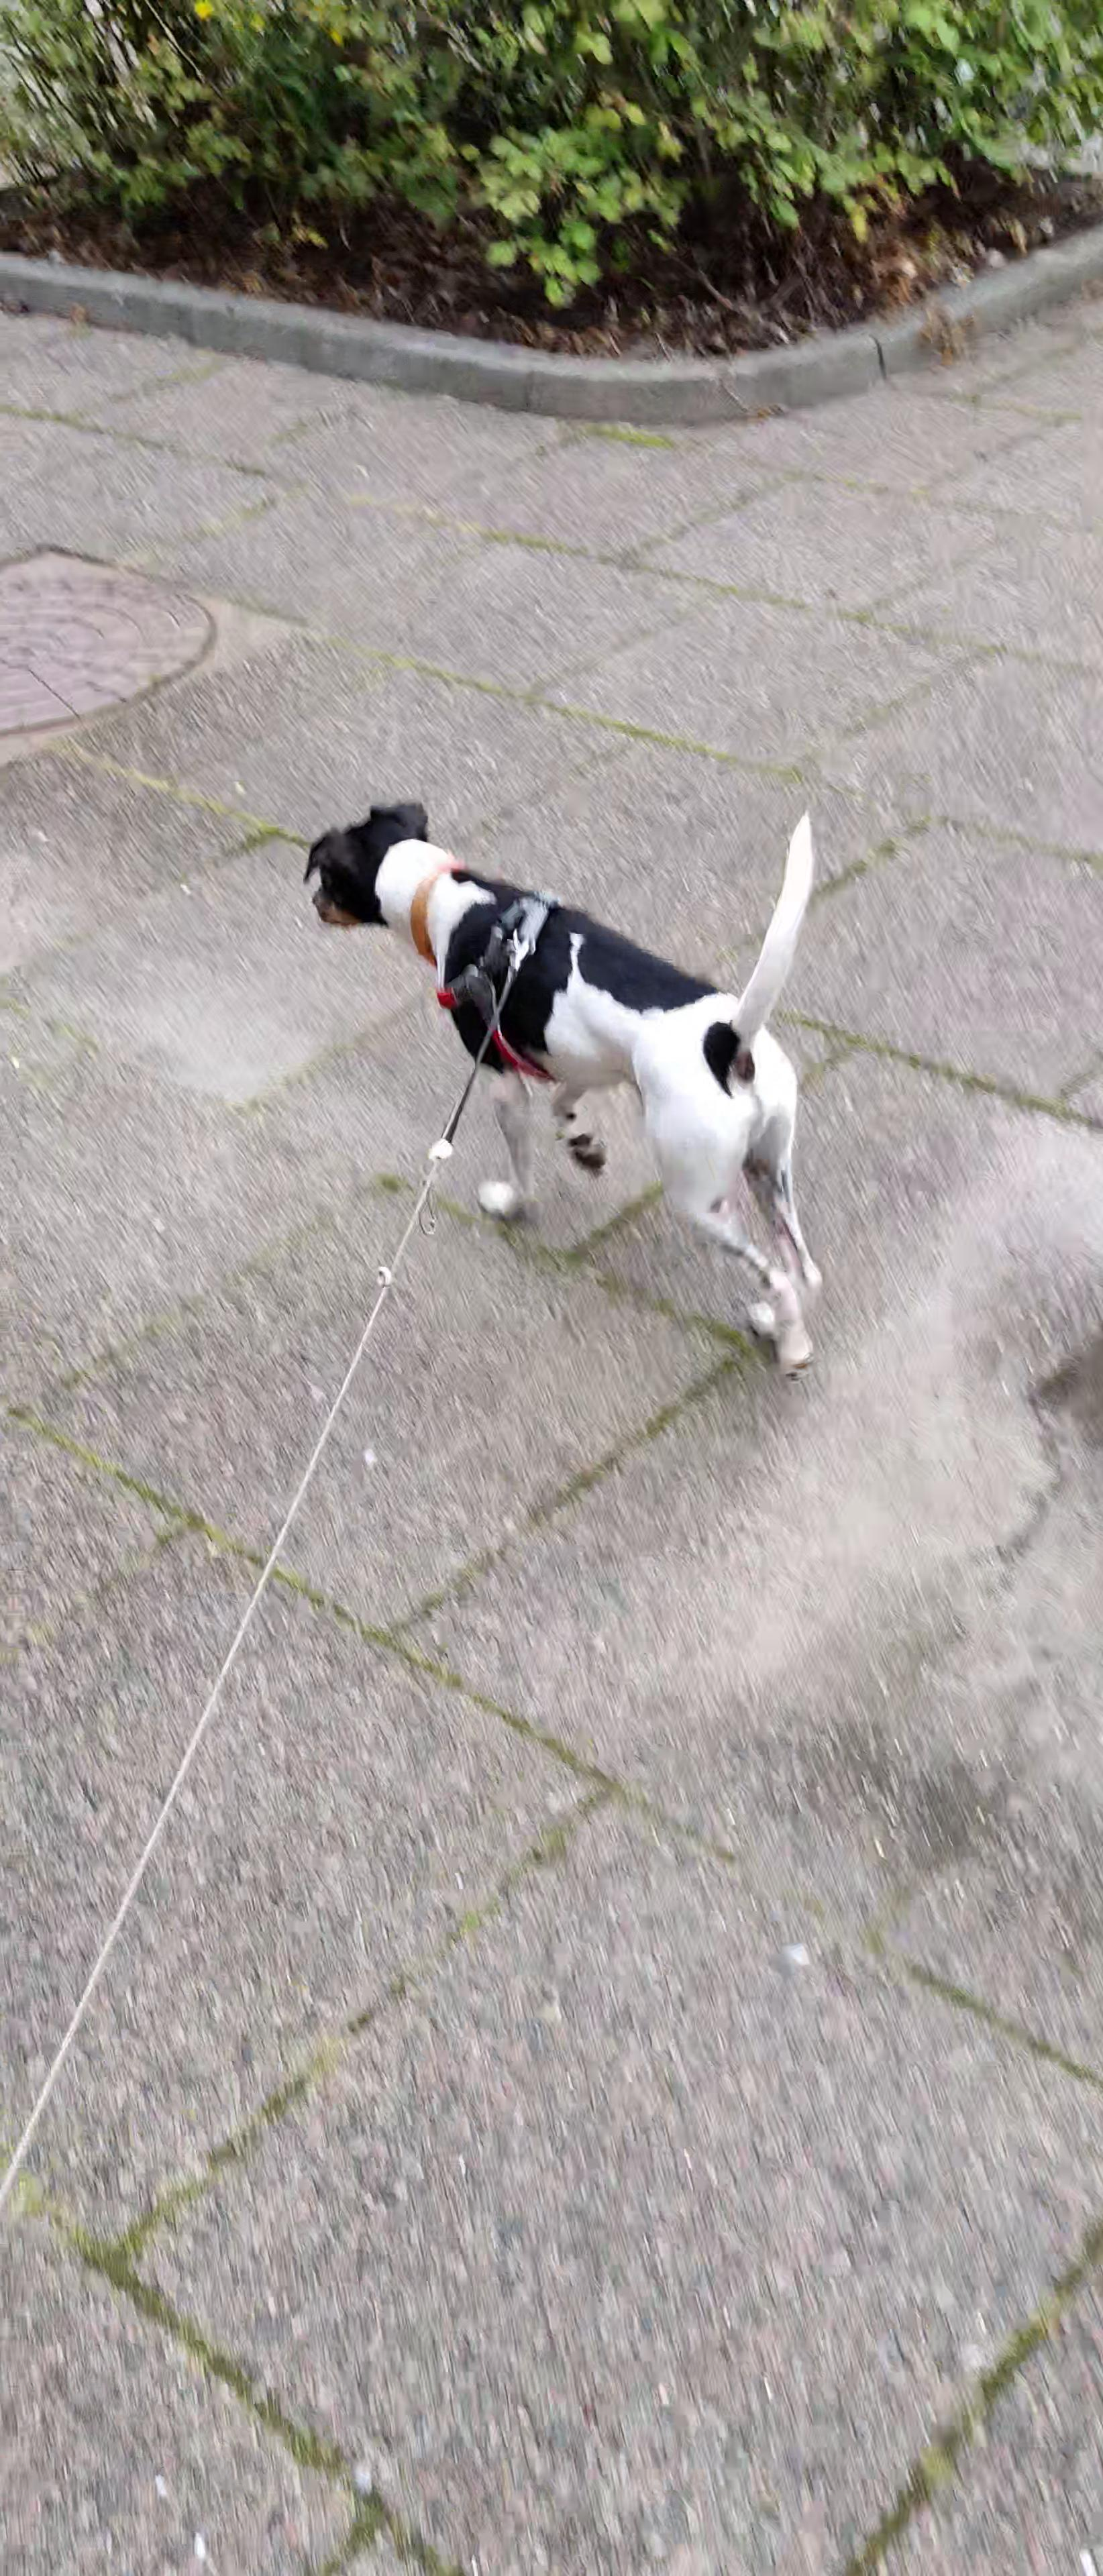Dog: (296, 798, 837, 1390)
